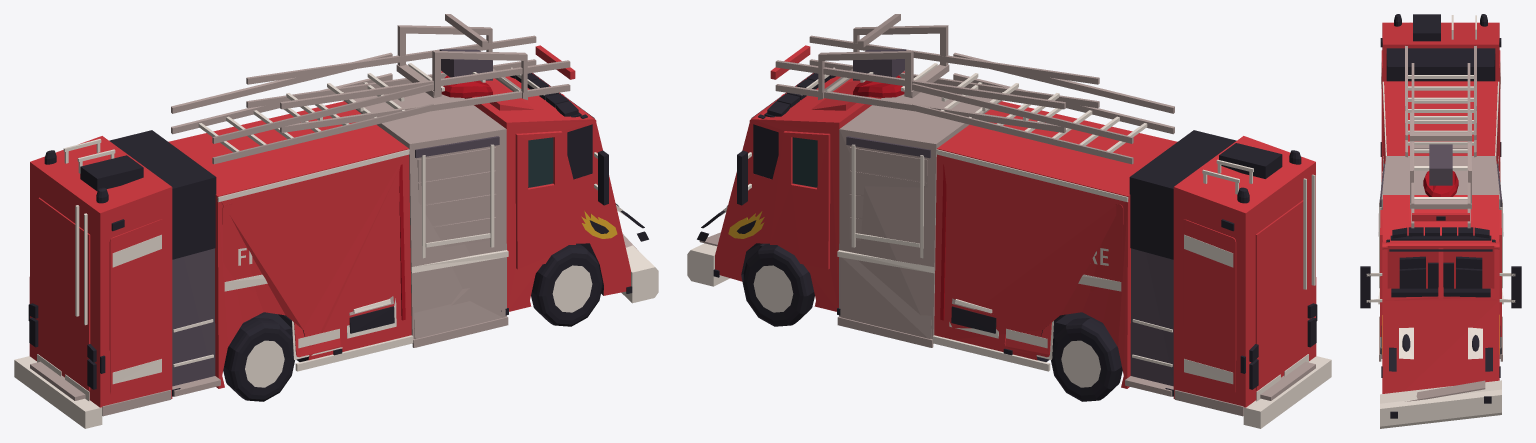
Rendered from veh.fire-engine.wrecked.glb.
3 views of the same model, side by side, from view 1: azimuth 30°, elevation 25°; view 2: azimuth 150°, elevation 25°; view 3: azimuth 270°, elevation 25° (orthographic). The views are drawn at different scales.
Parts seen in each view (by area): view 1: object 13, ladder, doorL, wheelRL, body, wheelFL; view 2: object 13, ladder, doorR, wheelRR, body, wheelFR; view 3: object 13, ladder, body, sirenL, sirenR, doorL, doorR, lightsFront.
Boxes of the visible parts, x1=… form: object 13: x1=28, y1=71, x2=648, y2=416; ladder: x1=171, y1=14, x2=575, y2=164; doorL: x1=515, y1=131, x2=575, y2=269; wheelRL: x1=223, y1=317, x2=294, y2=401; body: x1=14, y1=234, x2=658, y2=428; wheelFL: x1=531, y1=243, x2=602, y2=326; object 13: x1=697, y1=71, x2=1317, y2=416; ladder: x1=770, y1=14, x2=1174, y2=164; doorR: x1=770, y1=131, x2=830, y2=269; wheelRR: x1=1051, y1=317, x2=1122, y2=401; body: x1=687, y1=232, x2=1331, y2=428; wheelFR: x1=742, y1=243, x2=814, y2=326; object 13: x1=1360, y1=14, x2=1521, y2=393; ladder: x1=1405, y1=46, x2=1476, y2=228; body: x1=1380, y1=347, x2=1501, y2=428; sirenL: x1=1392, y1=227, x2=1439, y2=238; sirenR: x1=1442, y1=227, x2=1489, y2=238; doorL: x1=1380, y1=210, x2=1382, y2=336; doorR: x1=1499, y1=210, x2=1501, y2=336; lightsFront: x1=1402, y1=334, x2=1479, y2=351.
Bounding box in the file's own units: 7.19 × 3.53 × 2.1.
